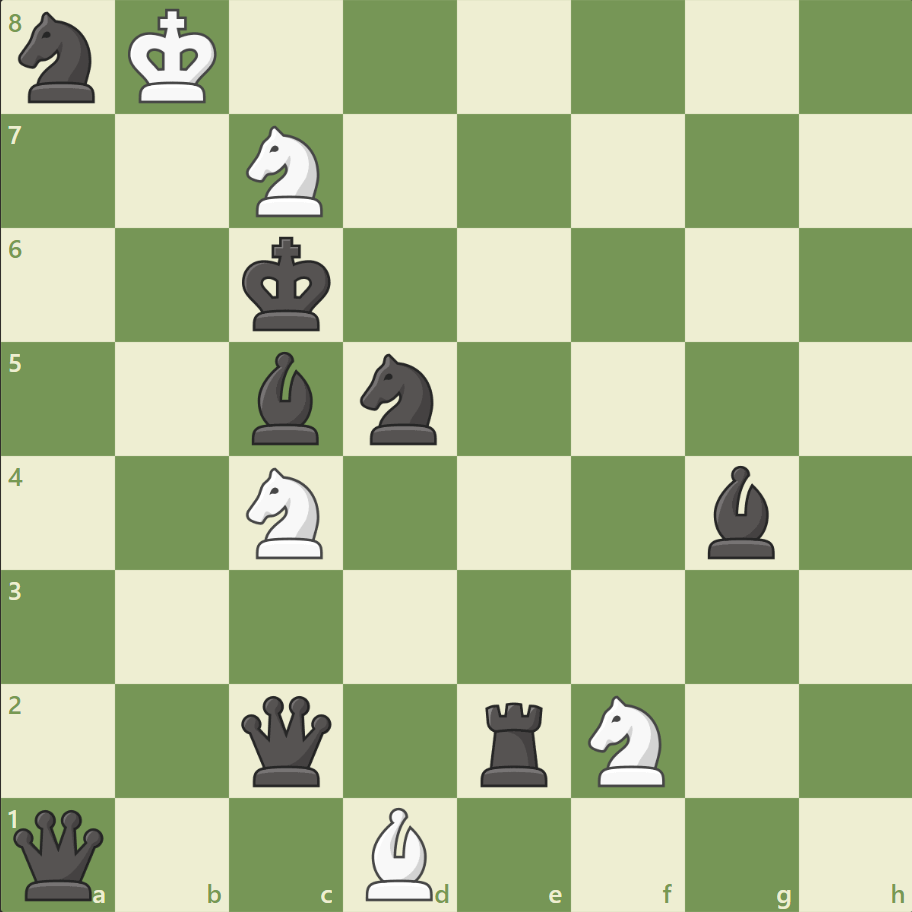B: (358, 801, 442, 904)
K: (124, 4, 224, 112)
N: (238, 461, 335, 564), (579, 688, 676, 791), (238, 121, 335, 223)
b: (698, 460, 782, 563), (244, 347, 328, 449)
k: (238, 231, 338, 339)
n: (351, 348, 449, 450), (11, 7, 108, 110)
q: (237, 690, 336, 789), (10, 804, 109, 903)
r: (473, 693, 556, 790)
